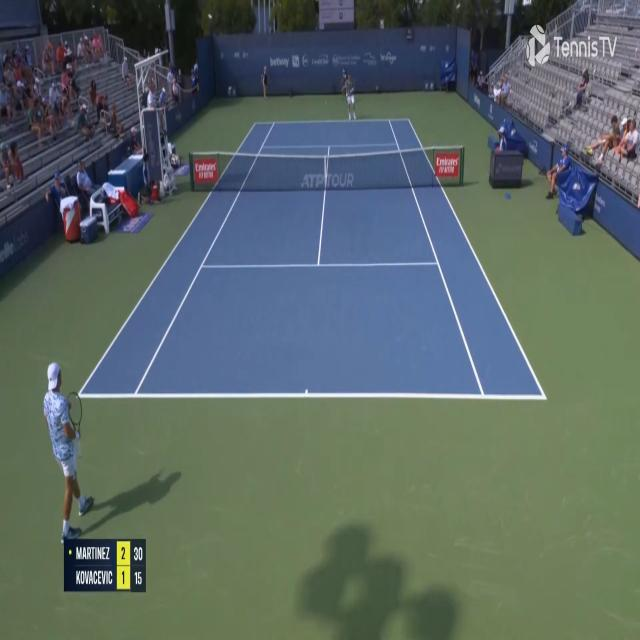tennis-player: (42, 355, 102, 537), (338, 68, 358, 123)
